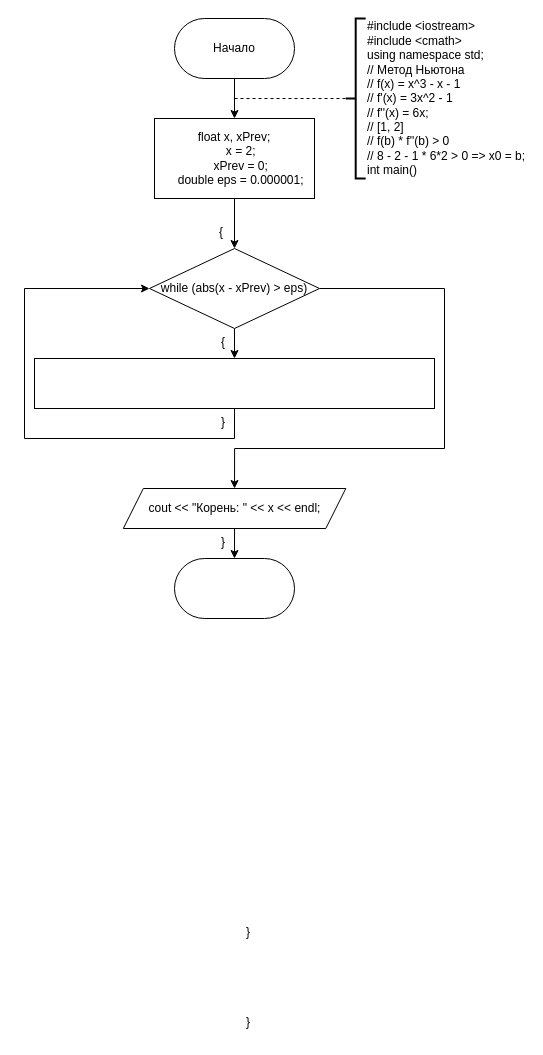
This 543x1055 diagram has some shape labels left out. Each missing label, with the box of its shape:
xPrev = x; x = xPrev - ((pow(xPrev, 3) - xPrev - 1) / (3 * pow(xPrev, 2) - 1));: (34, 358, 434, 408)
Конец: (174, 558, 294, 618)
